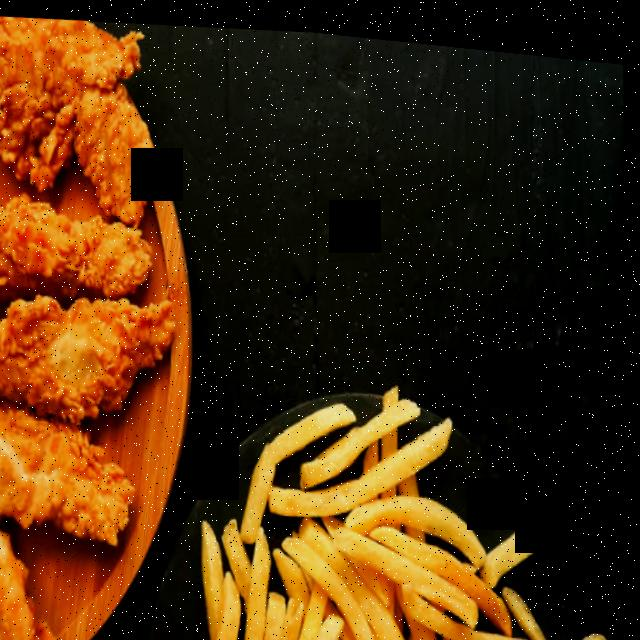Frango: (0, 7, 211, 640)
